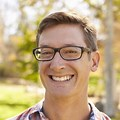person: (34, 12, 100, 97)
